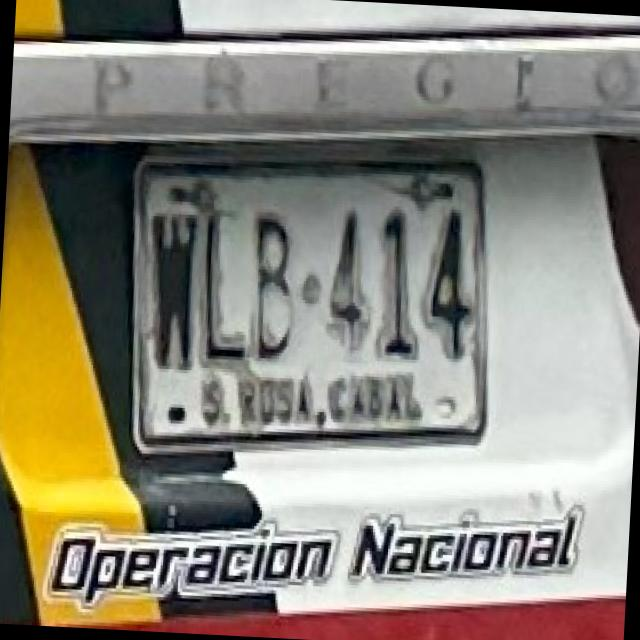number plate: (132, 158, 479, 441)
